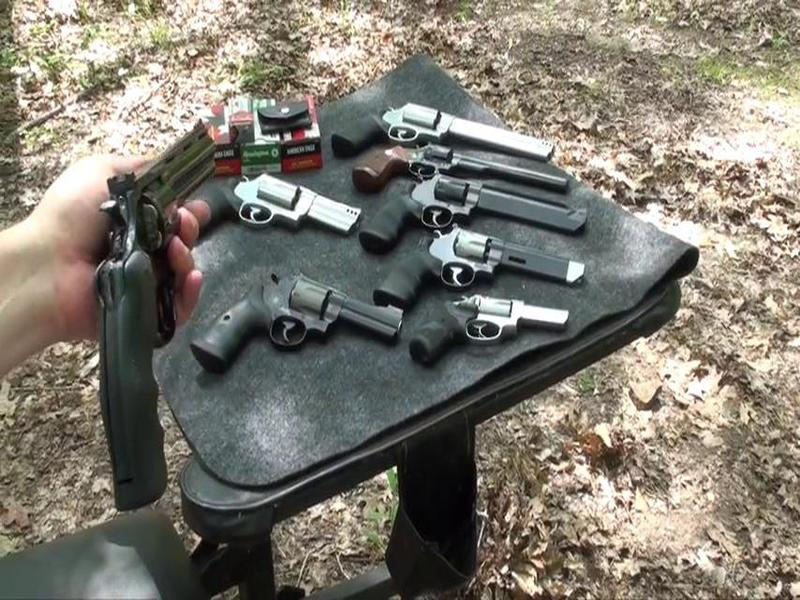Revolver: (72, 116, 220, 527), (330, 94, 566, 163), (414, 292, 574, 361)
